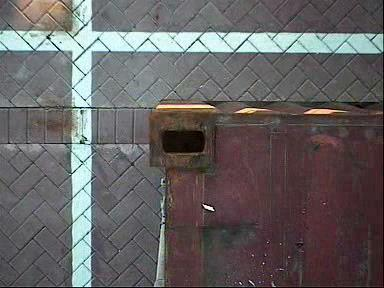groundmarker_2: (74, 168, 150, 208)
